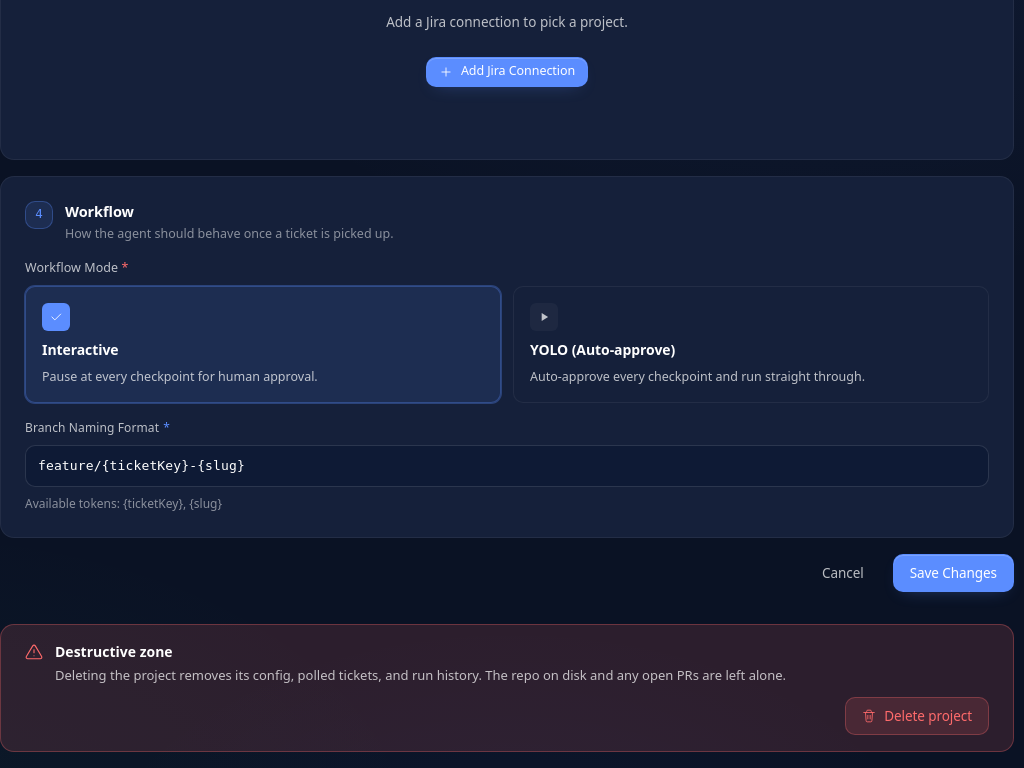
<ProjectSettingsTab /> — SETTINGS › SETTINGS-005 confirm requires name match › SETTINGS-005: typed-name mismatch keeps confirm disabled; exact match enables it
(page scrolled)
Click the button with test id "settings-delete-project": (917, 716) [845,697,989,735]
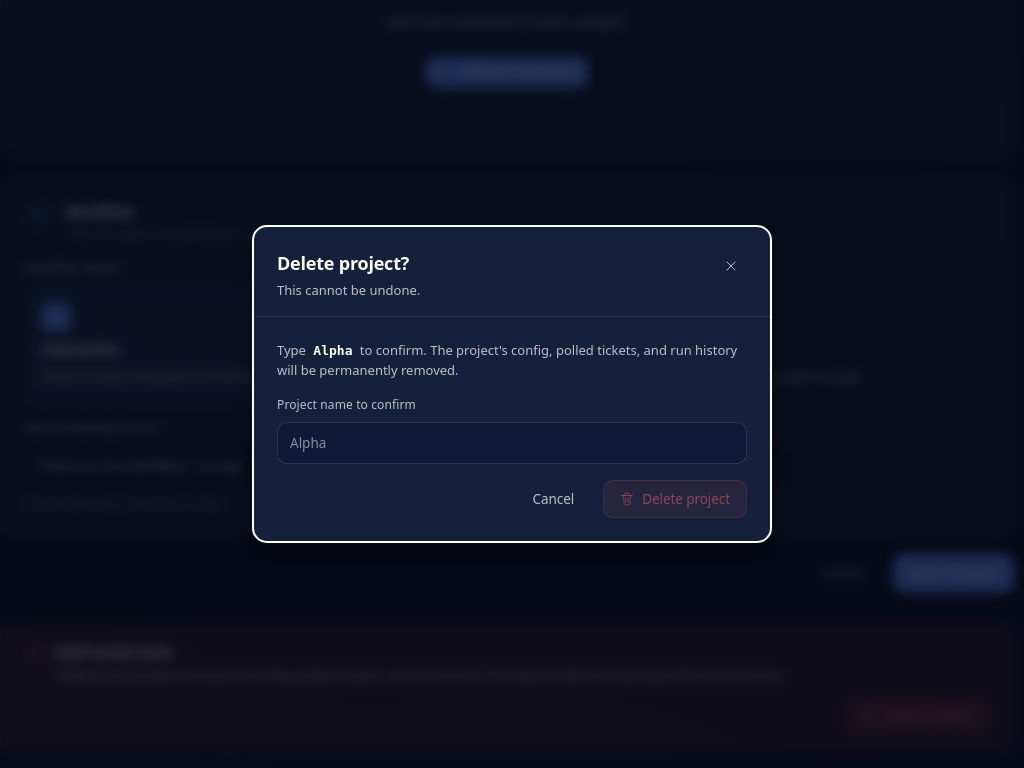
In the field with test id "settings-delete-confirm-input": (512, 443) [278,423,746,463], type "alpha"
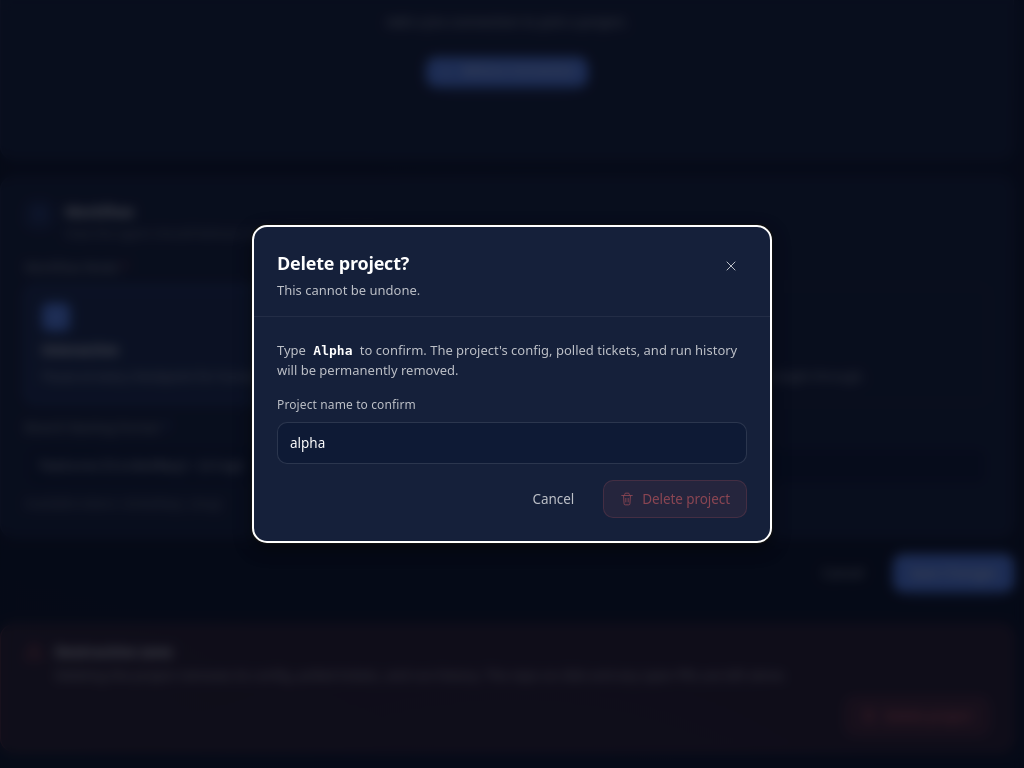
Expected: the button with test id "settings-delete-confirm" is disabled, [603,480,747,518]
Replace the text in the field with test id "settings-delete-confirm-input" with "Alpha": (512, 443) [278,423,746,463]
(page scrolled)
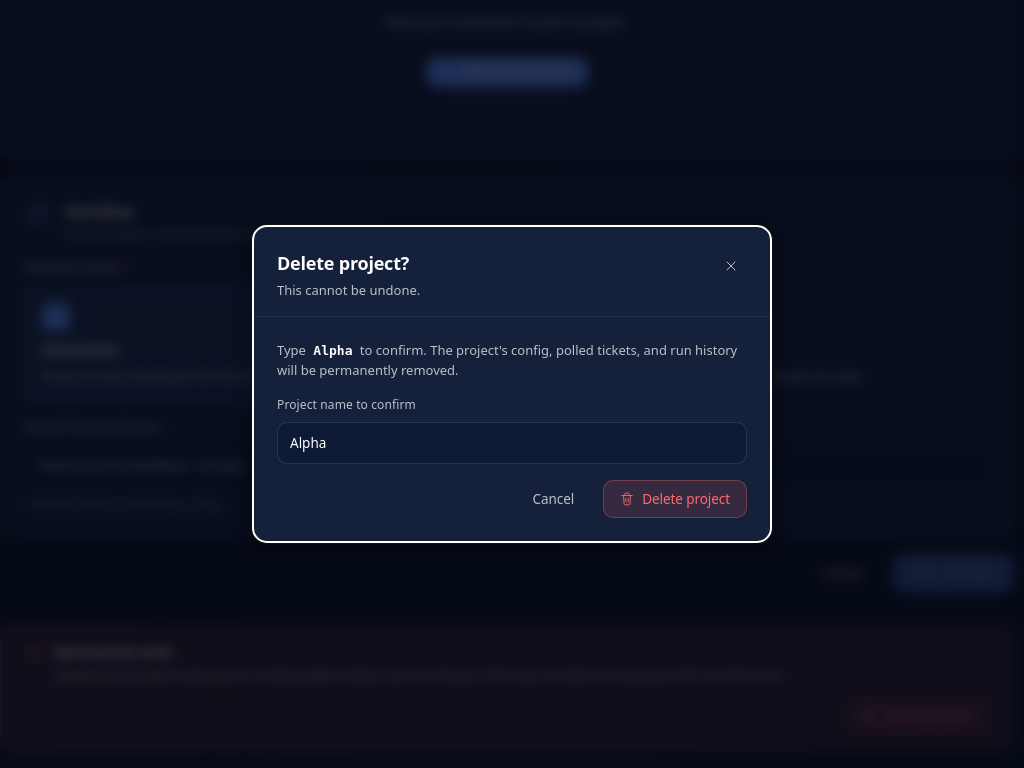
Expected: the button with test id "settings-delete-confirm" is enabled, [603,480,747,518]
